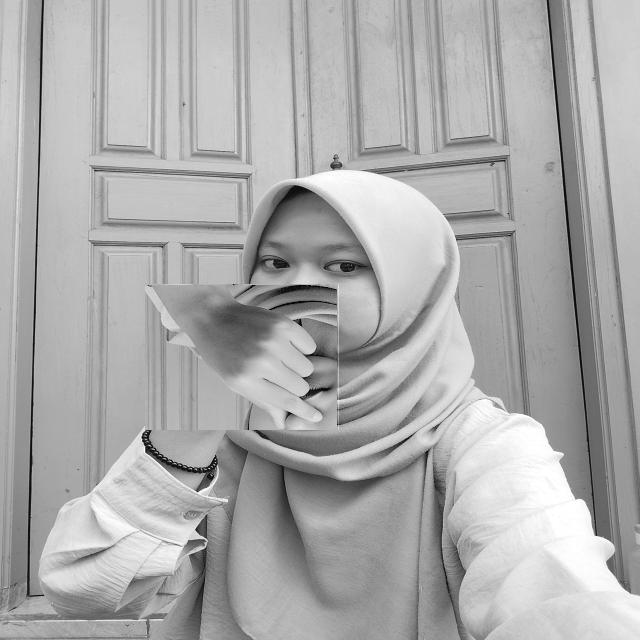bau: (146, 284, 340, 430)
